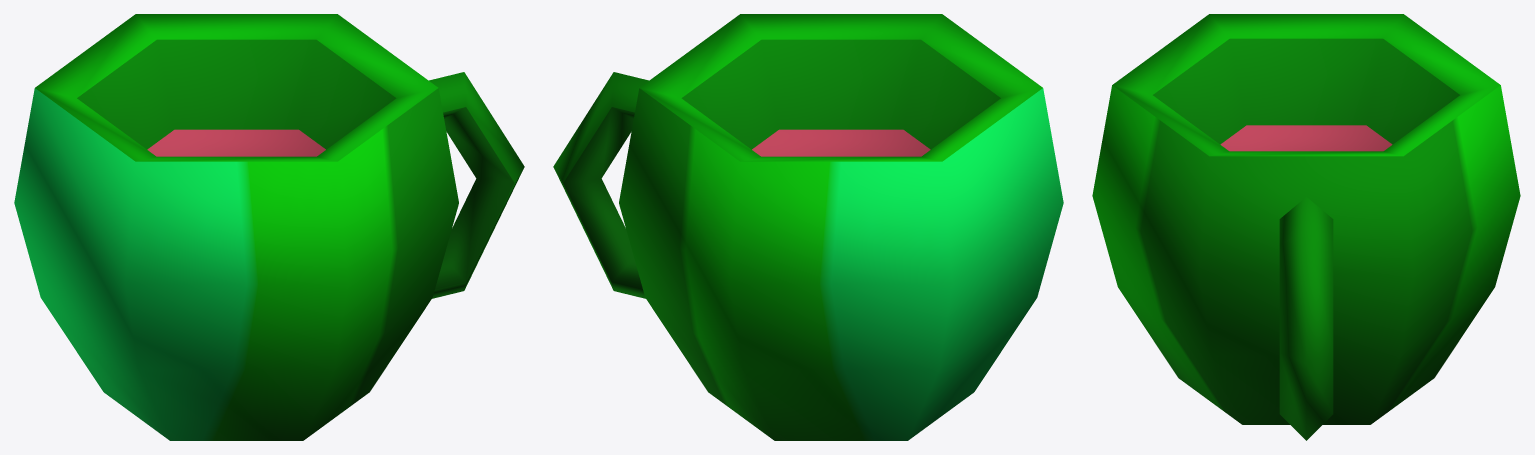
The model's file is CanecaVerde.fbx.
The picture shows the model from 3 angles, left to right: view 1: azimuth 30°, elevation 25°; view 2: azimuth 150°, elevation 25°; view 3: azimuth 270°, elevation 25°; orthographic projection. The views are drawn at different scales.
Parts seen in each view (by area): view 1: CanecaVerde; view 2: CanecaVerde; view 3: CanecaVerde.
Boxes of the visible parts, x1,y1,x2,y2 form: CanecaVerde: (14,14,524,440); CanecaVerde: (553,14,1063,440); CanecaVerde: (1092,14,1520,440).
Bounding box in the file's own units: 32.14 × 20.55 × 27.22.
